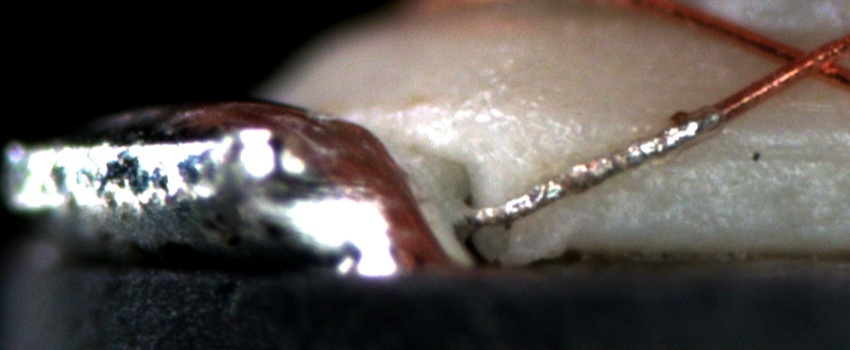CL: (760, 31, 841, 89)
DL: (643, 117, 850, 181)
TS: (472, 108, 720, 226)
TTCW: (460, 99, 741, 230)
